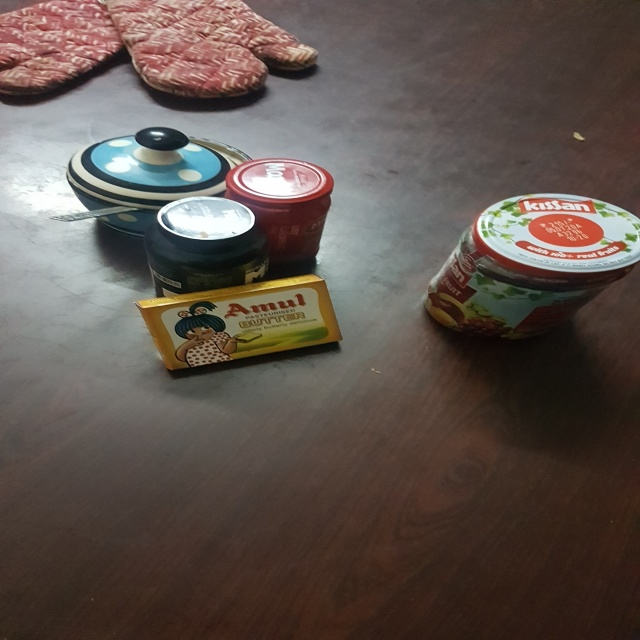butter: (127, 282, 355, 372)
